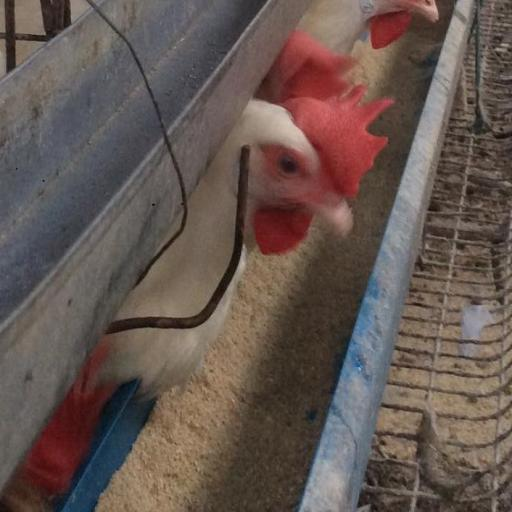healthy: (266, 47, 377, 260)
